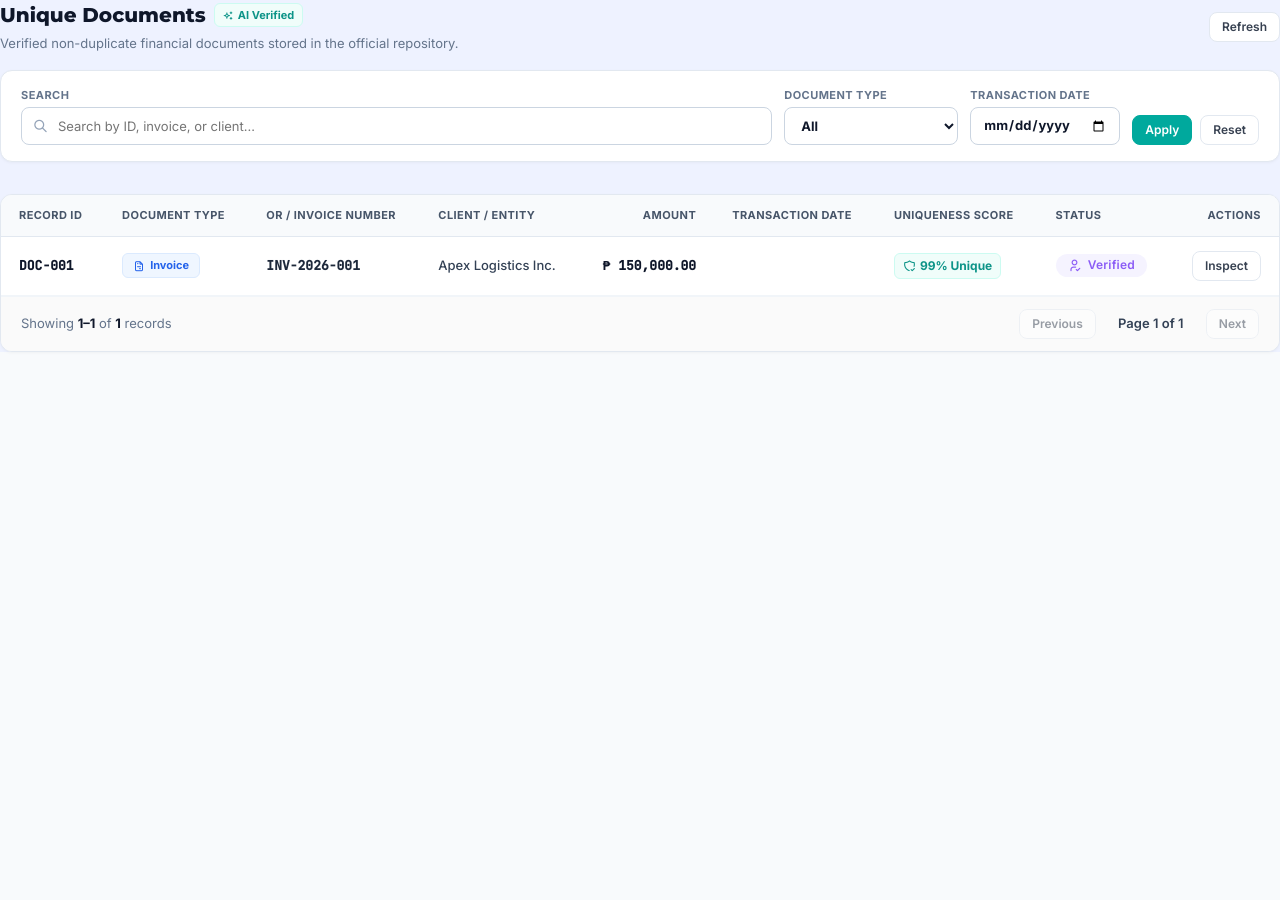
EMP-001 (Finance Manager) — Complete Page-by-Page Workflow & Verification › Page 15: /unique-documents (Unique Documents) › loads unique documents and opens document detail inspection modal
The image size is (1280, 900).
Check: the text "INV-2026-001" is shown, box left=266, top=257, right=360, bottom=274
Step 1. Click the button "Inspect" → (1226, 266), box left=1192, top=250, right=1261, bottom=280
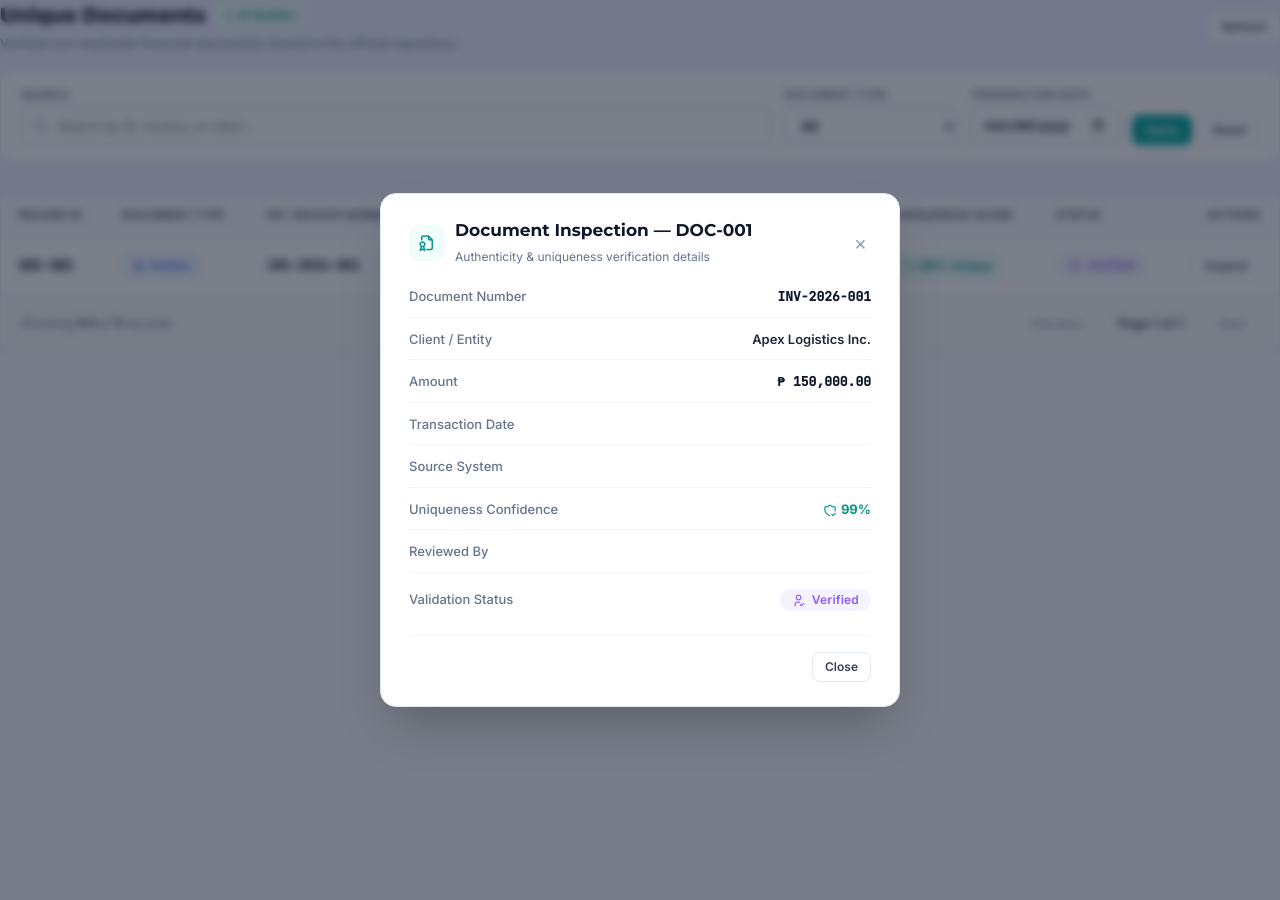
Check: the text "INV-2026-001" in the row of "% Unique" is shown, box left=266, top=257, right=360, bottom=274
Check: the heading "Document Inspection — DOC-001" is shown, box left=455, top=218, right=752, bottom=243
